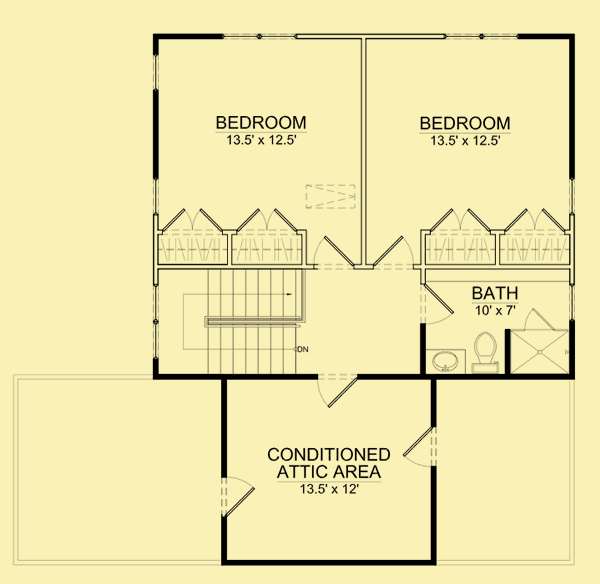door: (414, 281, 457, 327), (397, 423, 440, 469), (212, 473, 255, 519), (236, 205, 298, 235), (429, 206, 491, 236), (503, 205, 565, 235), (312, 234, 357, 271), (370, 234, 415, 271), (313, 370, 358, 407), (163, 207, 223, 234), (519, 305, 557, 332)
large_sink: (469, 328, 501, 372)
small_sink: (422, 349, 465, 374)
stairs: (157, 267, 308, 374)
window: (439, 31, 525, 43), (221, 31, 297, 42)
